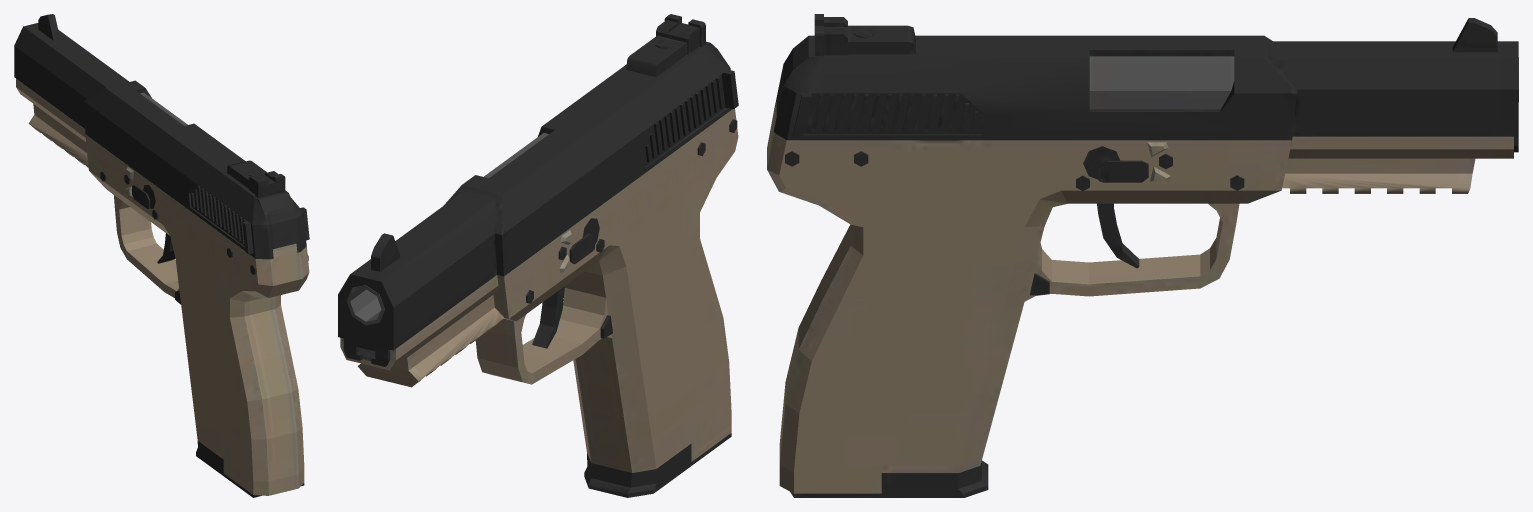
The model's file is 2026-07-23T17-09-32-217Z-balanced.glb.
3 views of the same model, side by side, from view 1: azimuth 30°, elevation 25°; view 2: azimuth 150°, elevation 25°; view 3: azimuth 270°, elevation 25° (orthographic). The views are drawn at different scales.
Visible parts, largest first — view 1: Frame, Slide, Pic_Rail, Rear_Sight, Magazine, Safety, Front_Sight; view 2: Frame, Slide, Pic_Rail, Magazine, Rear_Sight, Barrel, Trigger, Front_Sight, Safety; view 3: Frame, Slide, Barrel, Pic_Rail, Rear_Sight, Magazine, Safety, Front_Sight, Trigger.
Part boxes in pixels (x1,y1,x2,y2): Frame: [16, 78, 309, 495]; Slide: [14, 23, 309, 259]; Pic_Rail: [28, 104, 88, 167]; Rear_Sight: [226, 160, 285, 198]; Magazine: [196, 441, 304, 497]; Safety: [132, 185, 155, 208]; Front_Sight: [38, 14, 60, 40]; Frame: [340, 109, 738, 472]; Slide: [338, 41, 738, 366]; Pic_Rail: [357, 295, 503, 387]; Magazine: [584, 433, 731, 497]; Rear_Sight: [626, 14, 705, 76]; Barrel: [346, 133, 548, 325]; Trigger: [532, 286, 564, 348]; Front_Sight: [371, 233, 400, 271]; Safety: [569, 218, 599, 264]; Frame: [767, 101, 1513, 493]; Slide: [774, 35, 1518, 152]; Barrel: [1089, 56, 1518, 108]; Pic_Rail: [1282, 158, 1475, 193]; Rear_Sight: [814, 14, 915, 56]; Magazine: [790, 460, 988, 497]; Safety: [1083, 146, 1148, 182]; Front_Sight: [1452, 18, 1497, 52]; Trigger: [1097, 203, 1139, 268].
Bounding box in the file's own units: 0.0231 × 0.1116 × 0.1656.
Materials: 1 (1 with a texture image).
